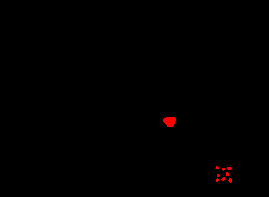Target: (163, 117, 176, 127), (228, 178, 232, 183), (221, 177, 225, 181), (227, 167, 232, 170), (226, 172, 229, 176), (216, 178, 219, 182), (216, 166, 219, 169), (222, 168, 225, 171), (217, 174, 220, 177)
